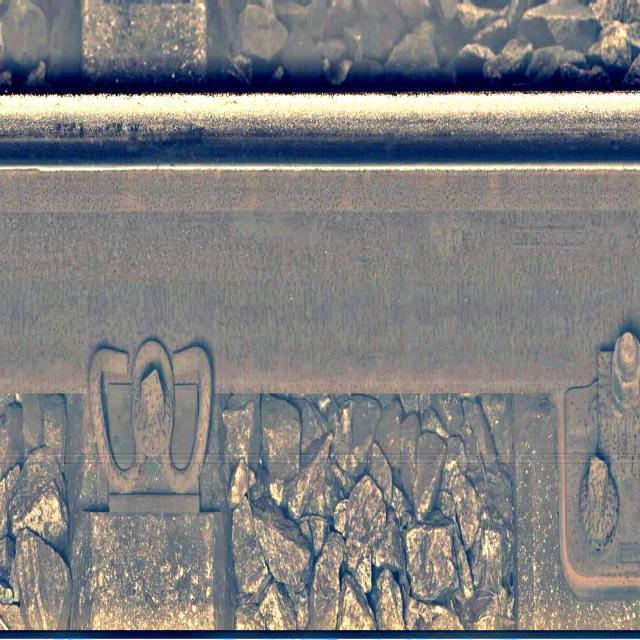Good Fasteners: (88, 338, 213, 512), (561, 332, 639, 599)
